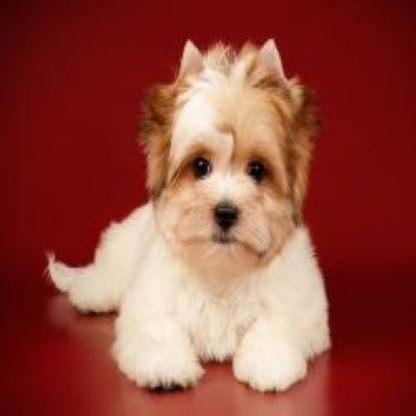maltese: (44, 38, 334, 391)
